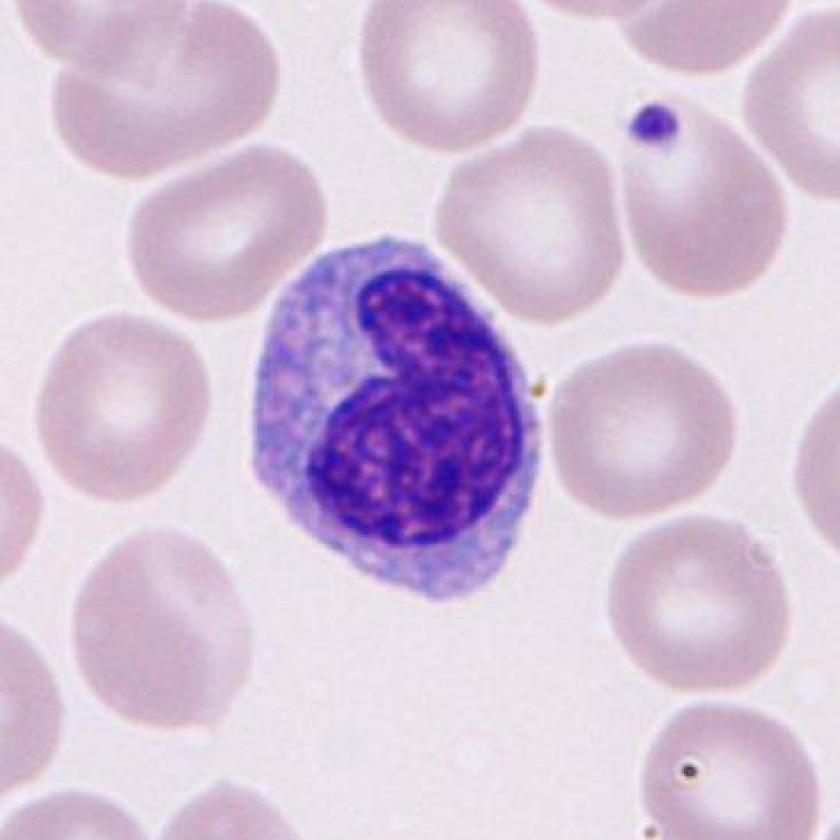monocyte: (219, 217, 570, 625)
